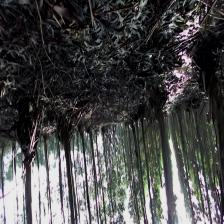trunk: (156, 108, 174, 214), (63, 134, 75, 223), (21, 154, 36, 223), (140, 118, 152, 201), (80, 132, 91, 222)
